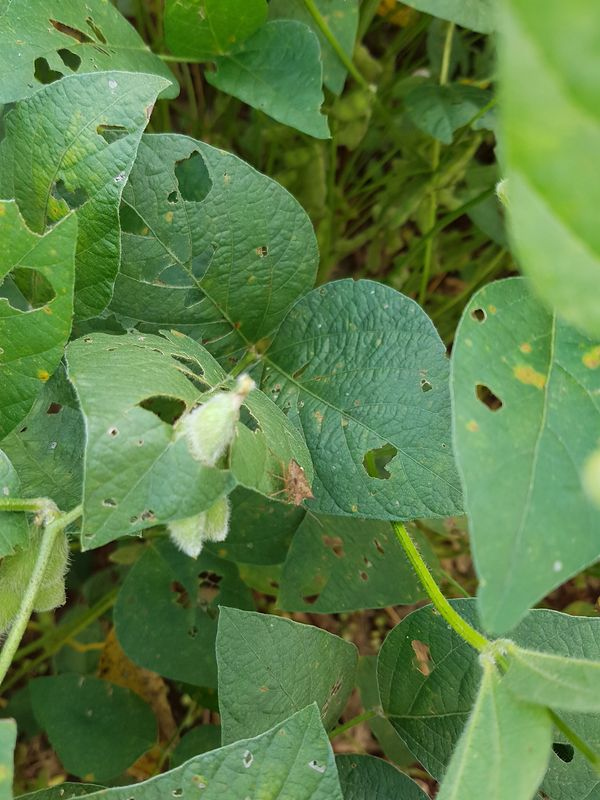Euschistus_heros_adulto: (260, 448, 330, 519)
